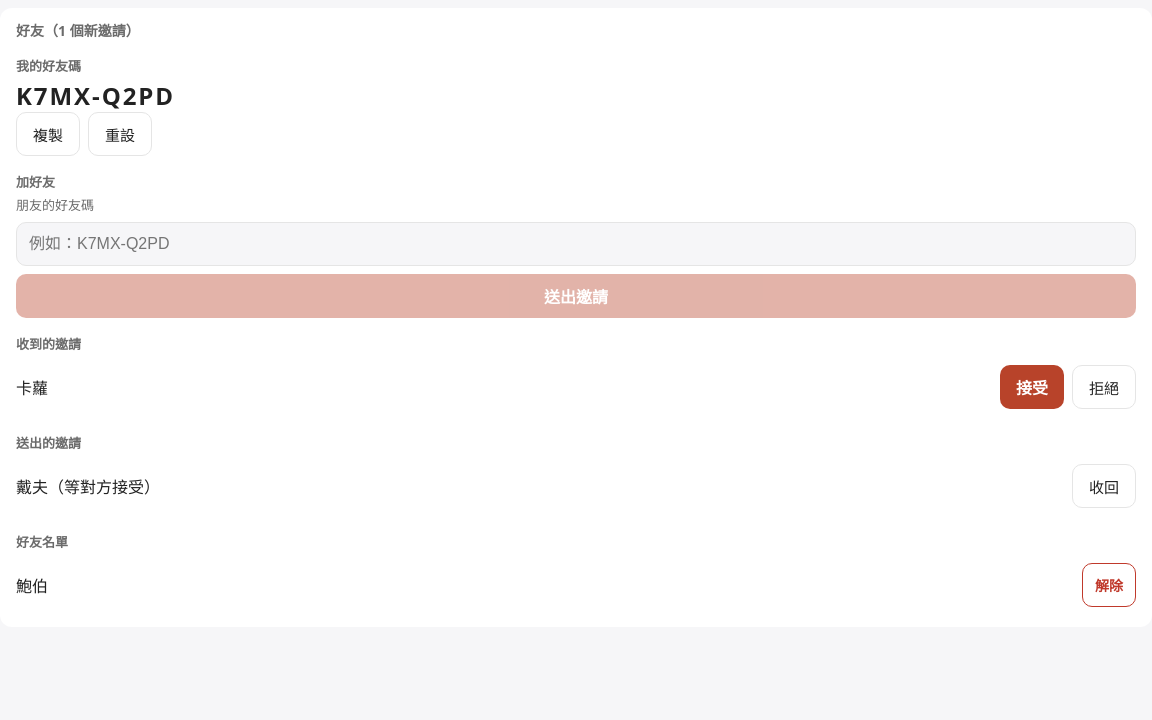
Test: 好友卡片 › 重設要先確認；確認之後換成新的碼
This screenshot has width=1152, height=720.
Click the button with aria-label "重設好友碼".
click(120, 134)  # box x1=88 y1=112 x2=152 y2=156
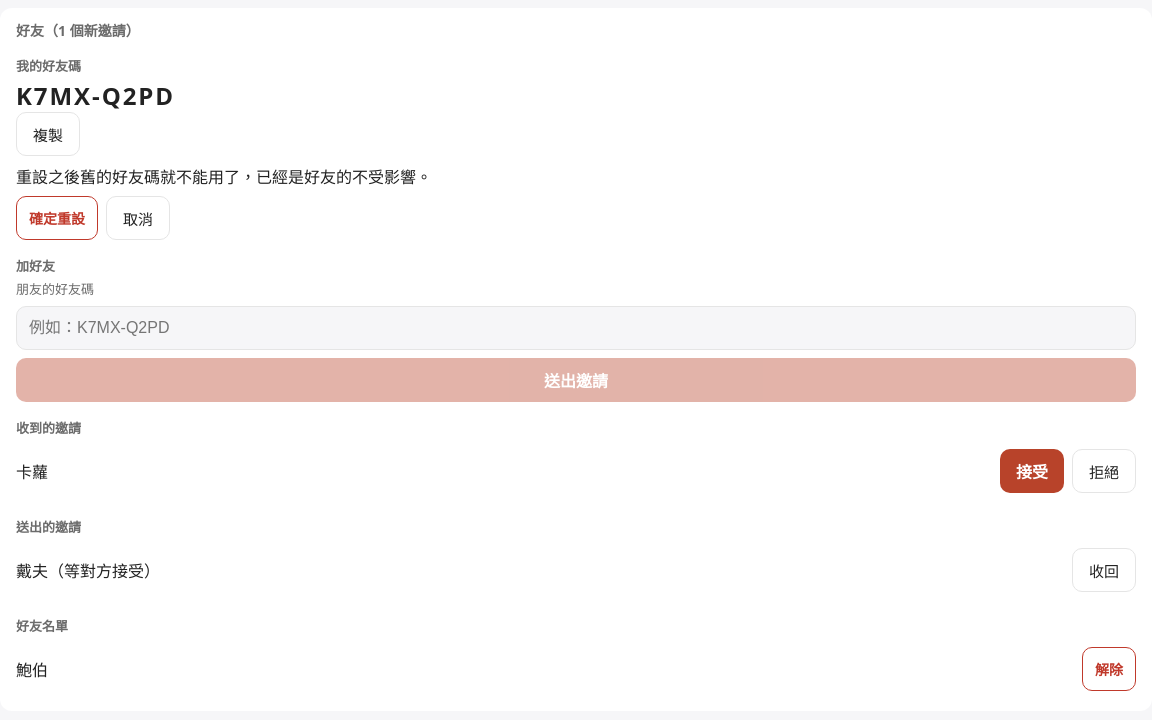
Click the button "取消".
click(138, 218)  # box x1=106 y1=196 x2=170 y2=240
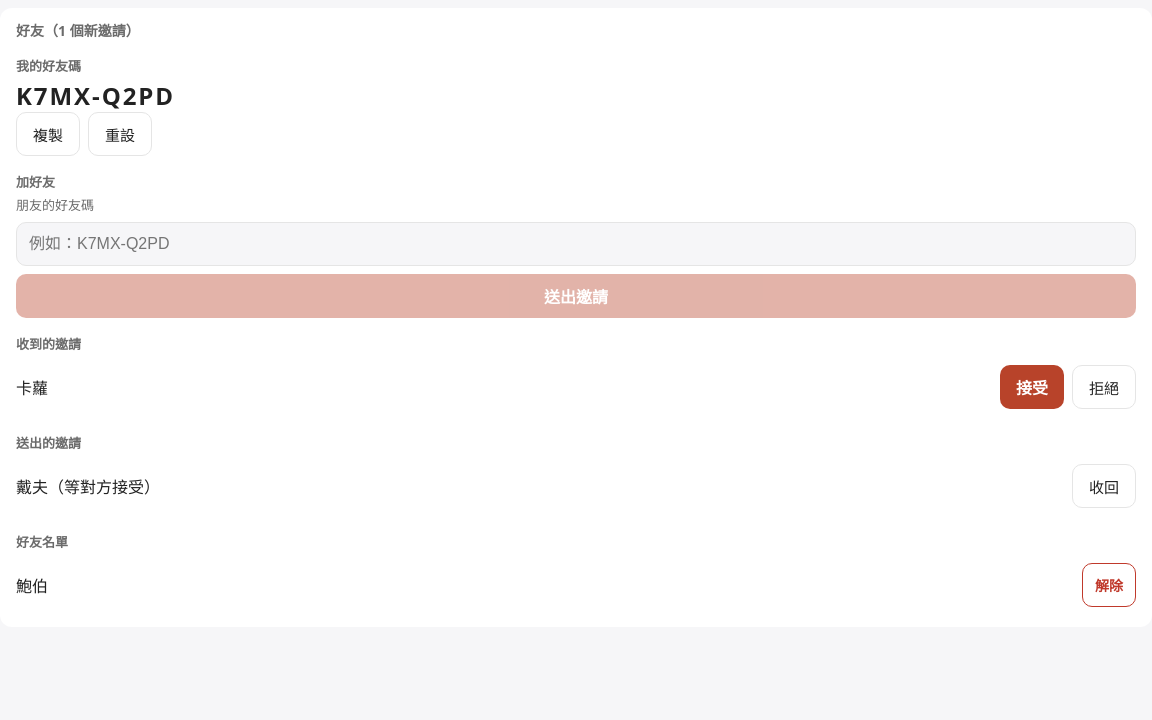
Click the button with aria-label "重設好友碼".
click(120, 134)  # box x1=88 y1=112 x2=152 y2=156
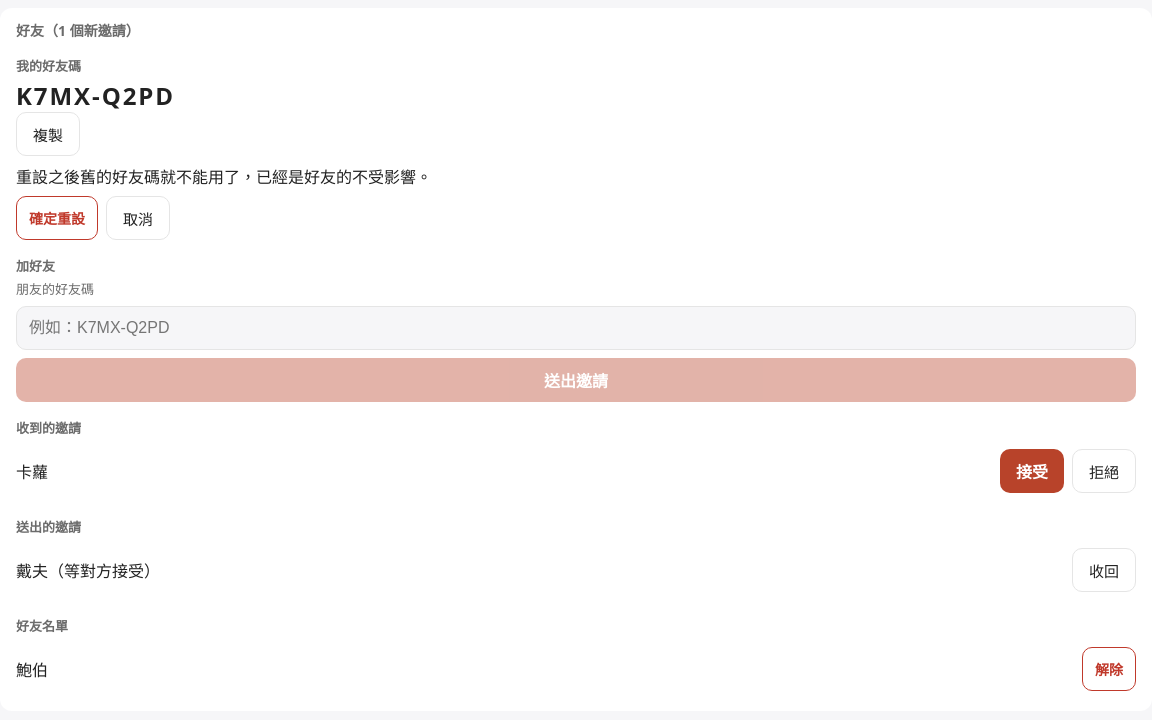
Click the button "確定重設".
click(57, 218)  # box x1=16 y1=196 x2=98 y2=240
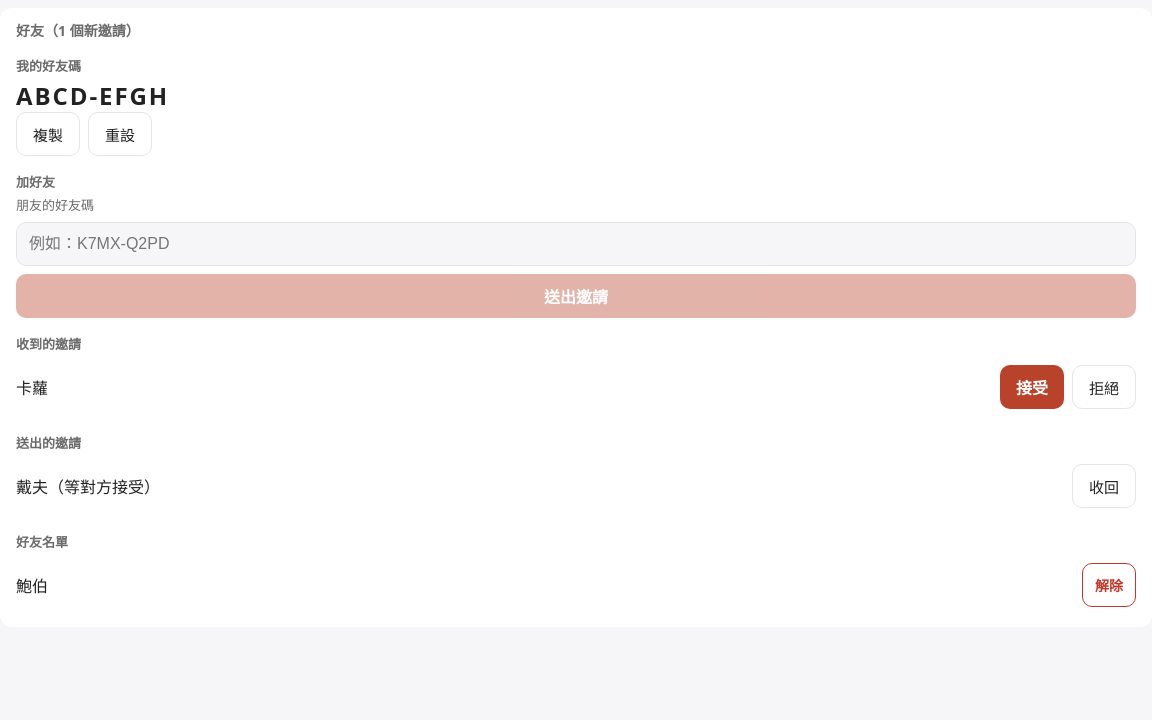
Check: the text with test id "friend-code" reads "ABCD-EFGH", box x1=16 y1=79 x2=169 y2=112
